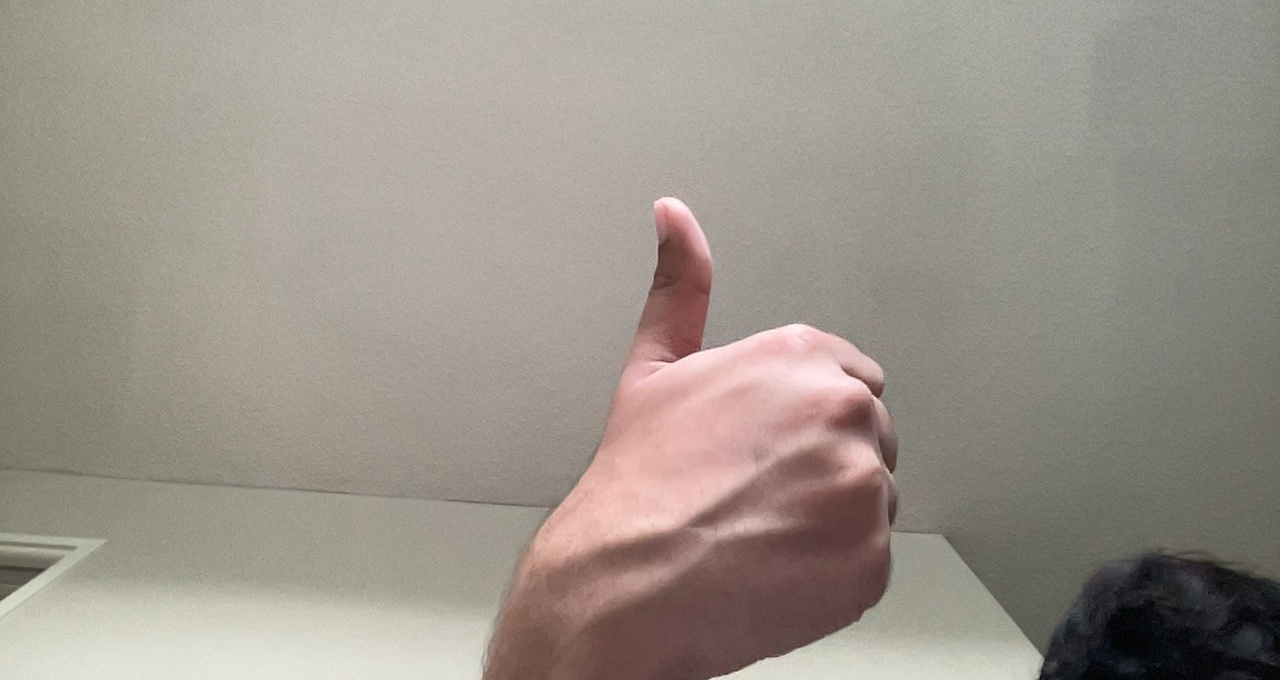thumbsup: (541, 191, 896, 669)
